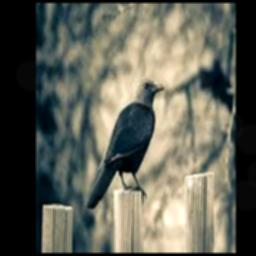Crow: (85, 77, 164, 209)
